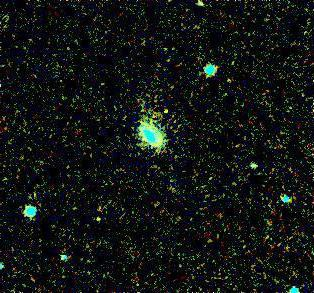star: (150, 94, 180, 124)
